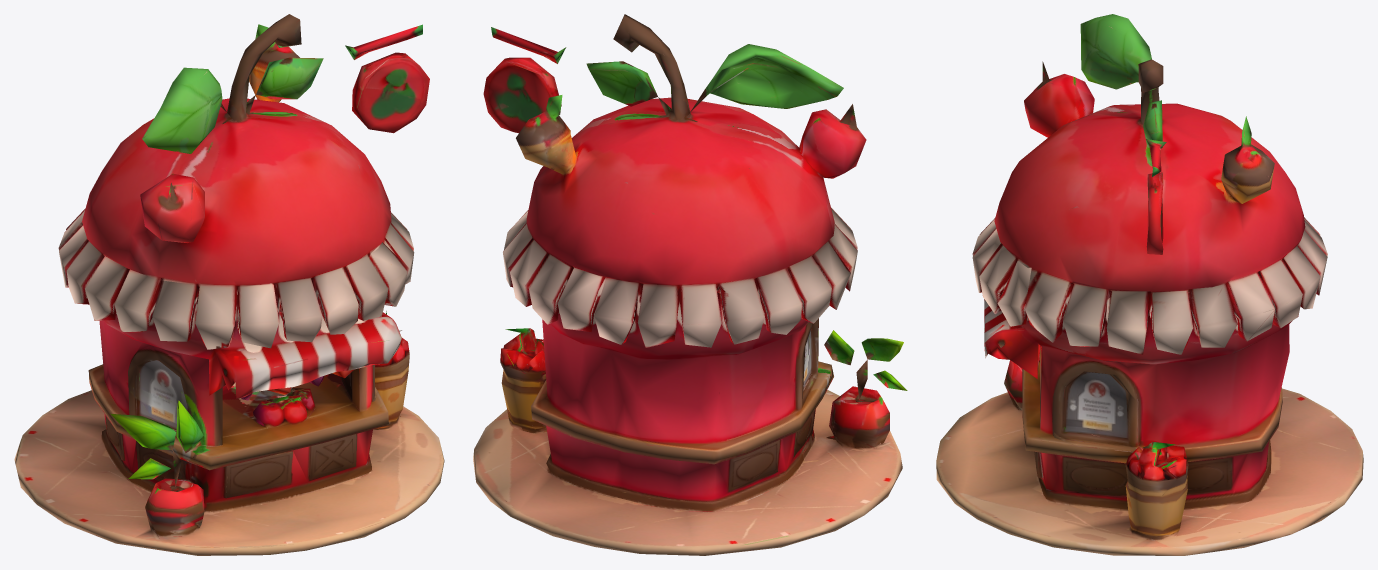
File: Meshy_AI_Apple_Delight_Shop_0109125402_texture.fbx
3 renders of one model, left to right at view 1: azimuth 30°, elevation 25°; view 2: azimuth 150°, elevation 25°; view 3: azimuth 270°, elevation 25°, orthographic.
Parts seen in each view (by area): view 1: Mesh1.0; view 2: Mesh1.0; view 3: Mesh1.0.
Boxes of the visible parts, x1,y1,x2,y2 form: Mesh1.0: (14, 14, 444, 555); Mesh1.0: (473, 14, 907, 555); Mesh1.0: (936, 14, 1363, 555).
Bounding box in the file's own units: 176 × 191 × 170.
1 material, 1 textured.
